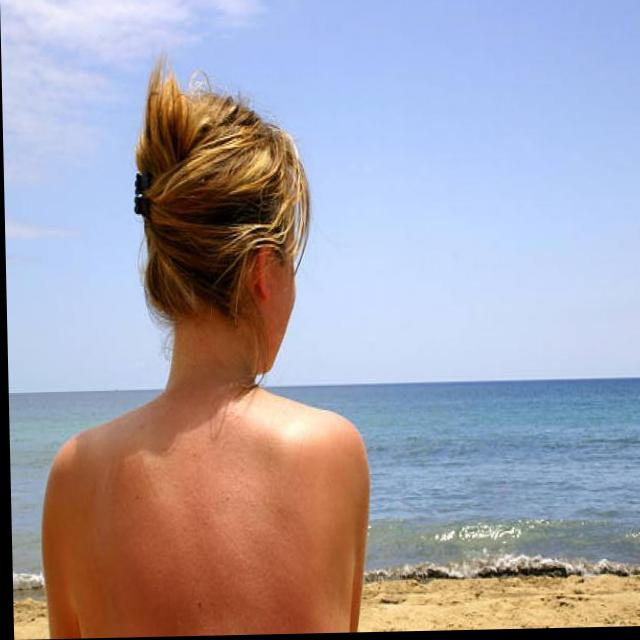no helmet: (129, 74, 306, 393)
